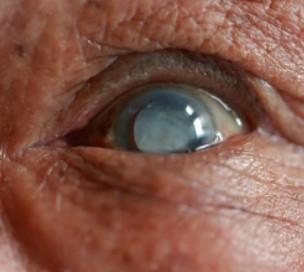eye: (114, 89, 218, 157)
